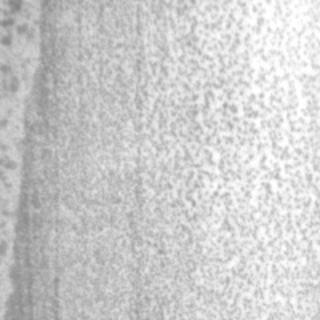pitted_surface: (54, 0, 318, 318)
